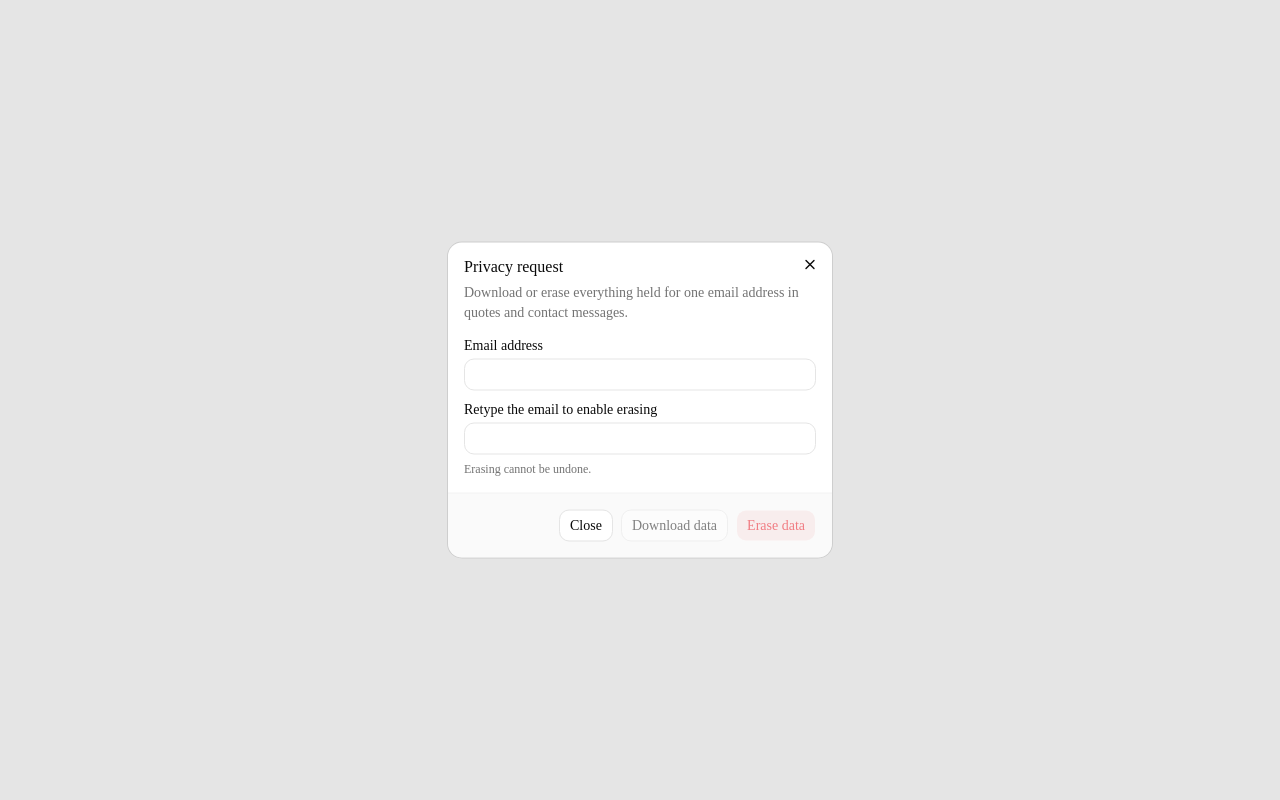
Scenario: PrivacyRequestDialog › keeps Erase disabled until the email is retyped
The width and height of the screenshot is (1280, 800).
Type "a@example.com" into the field labelled "Email address". click: (640,374)
box: [464, 358, 816, 390]
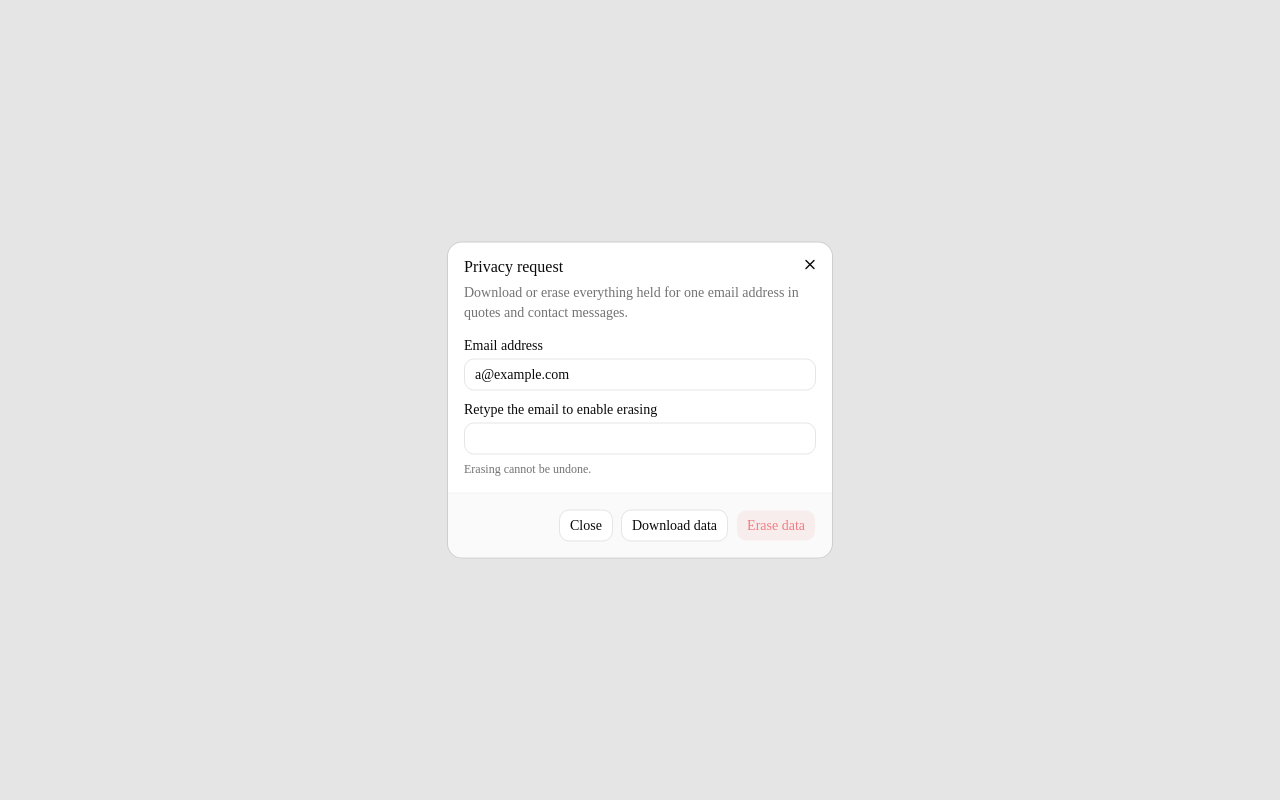
Expected: the button "Erase data" is disabled, [736, 510, 816, 542]
Type "b@example.com" into the field labelled "Retype the email to enable erasing". click: (640,438)
box: [464, 422, 816, 454]
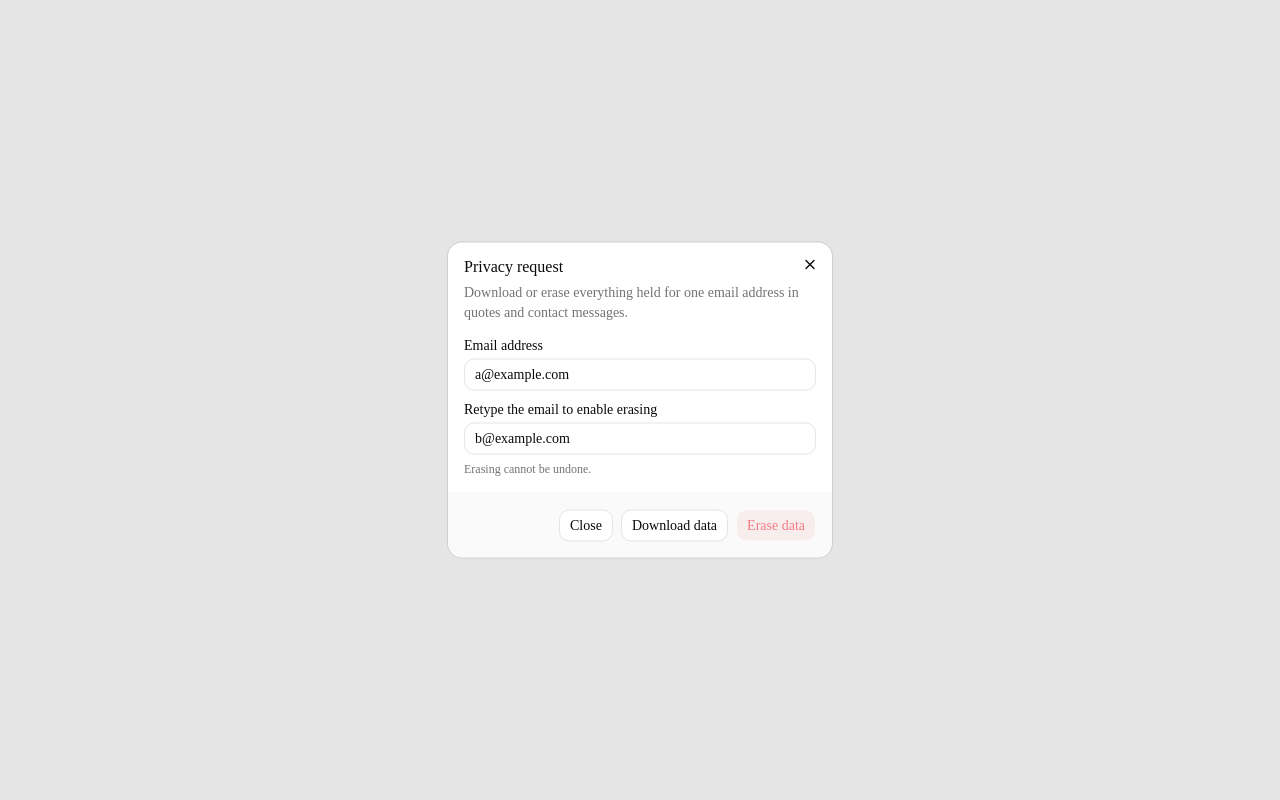
Expected: the button "Erase data" is disabled, [736, 510, 816, 542]
Replace the text in the field labelled "Retype the email to enable erasing" with "A@example.com". click: (640,438)
box: [464, 422, 816, 454]
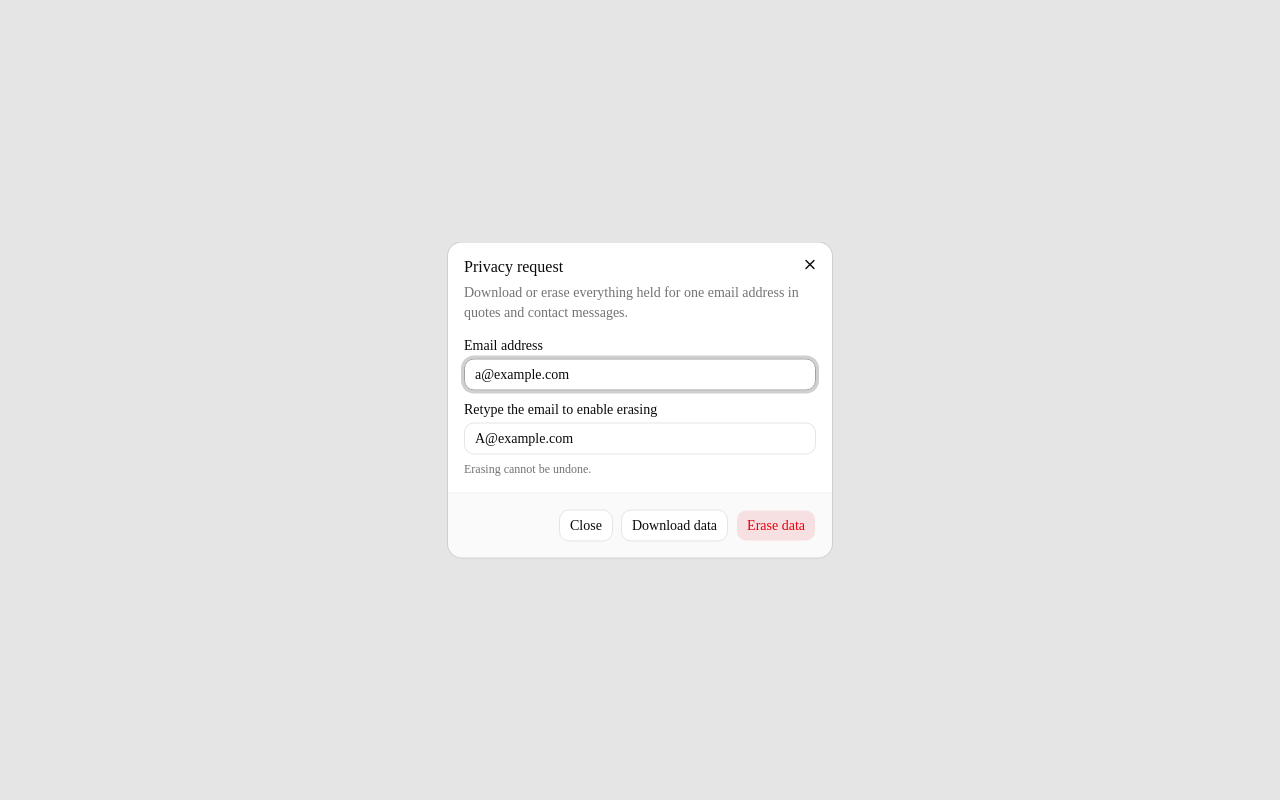
Now the button "Erase data" is enabled, box [736, 510, 816, 542]
